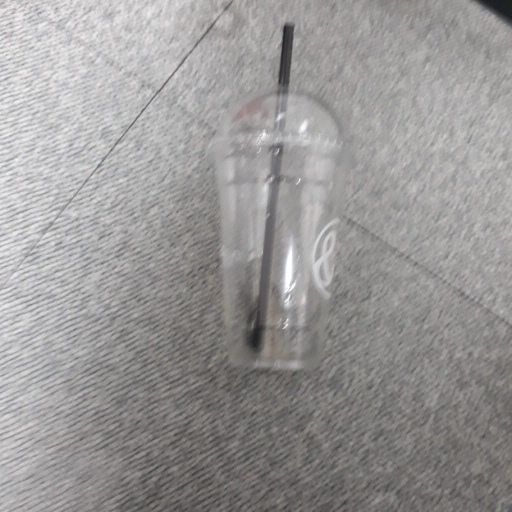Plastic_2: (209, 21, 348, 377)
